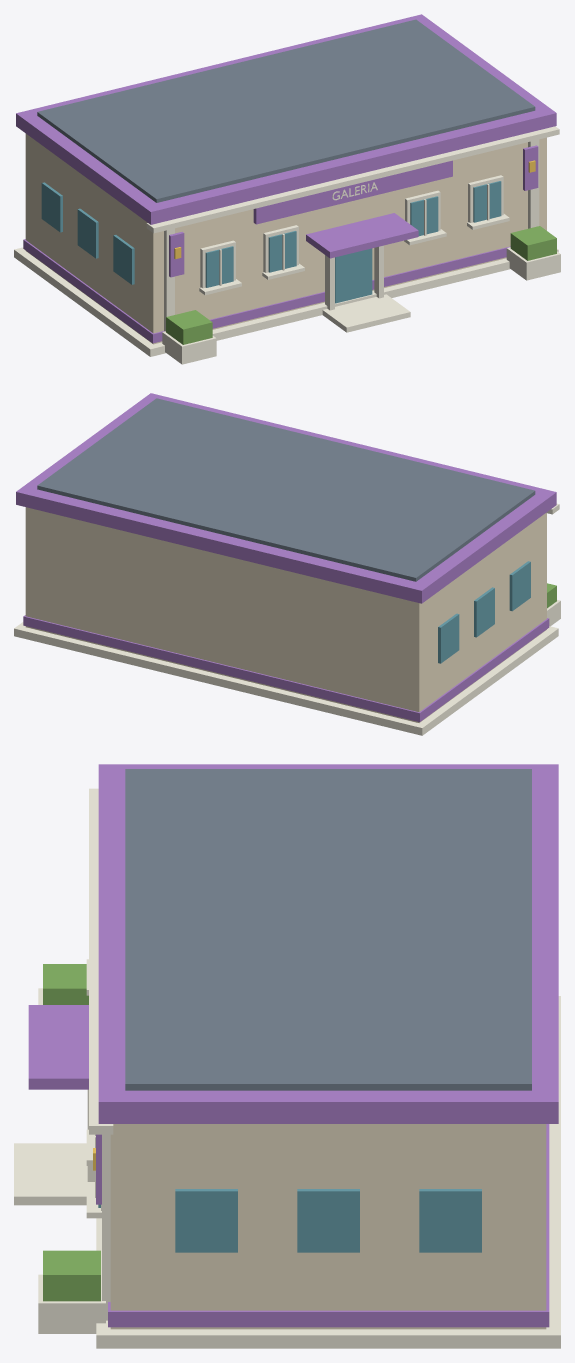
File: galeria.glb
3 views of the same model, one above another, from view 1: azimuth 30°, elevation 25°; view 2: azimuth 150°, elevation 25°; view 3: azimuth 270°, elevation 25° (orthographic). The views are drawn at different scales.
Parts seen in each view (by area): view 1: Foundation; view 2: Foundation; view 3: Foundation.
Part boxes in pixels (bbox=[...]): Foundation: bbox=[14, 14, 560, 364]; Foundation: bbox=[14, 393, 560, 735]; Foundation: bbox=[14, 764, 560, 1348].
Bounding box in the file's own units: 16.6 × 5.75 × 11.3.
